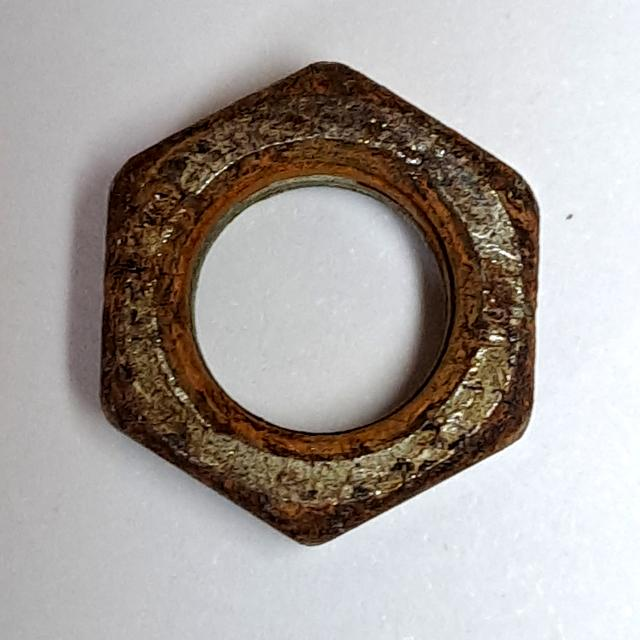Rust: (83, 49, 550, 564)
